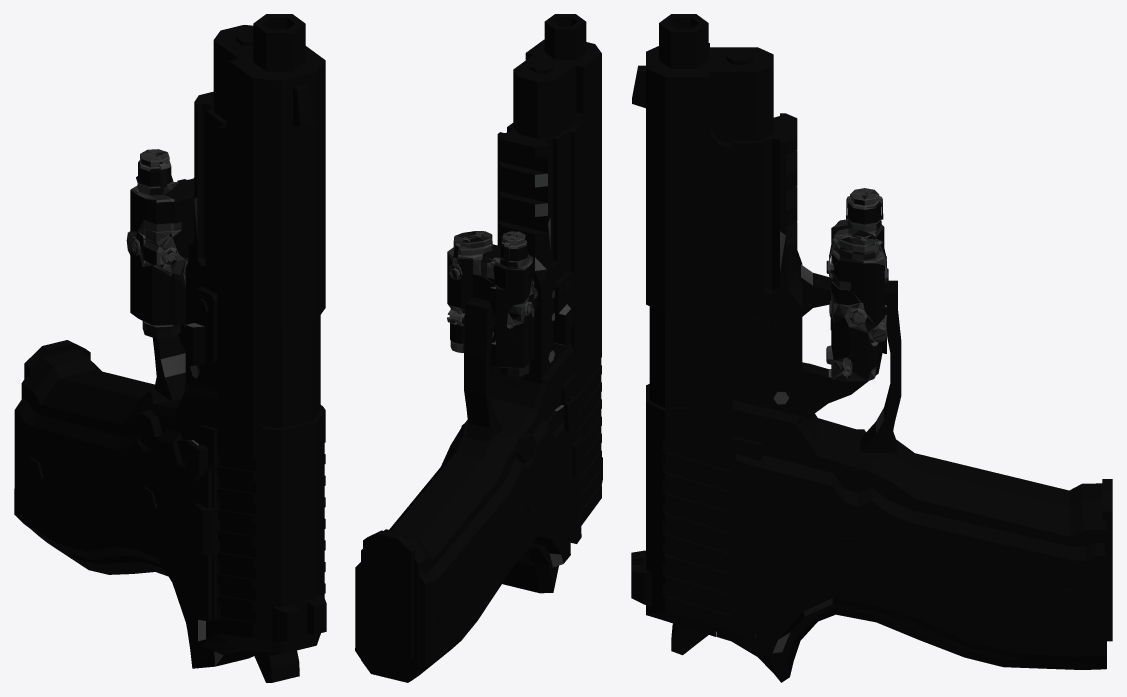
File: SIG_P226__Laser_Pistol.fbx
3 views of the same model, side by side, from view 1: azimuth 30°, elevation 25°; view 2: azimuth 150°, elevation 25°; view 3: azimuth 270°, elevation 25° (orthographic). The views are drawn at different scales.
Parts seen in each view (by area): view 1: asset_SIG_P226.001; view 2: asset_SIG_P226.001; view 3: asset_SIG_P226.001.
Part boxes in pixels (box(x1,y1,x2,y2)): asset_SIG_P226.001: box(14, 14, 326, 682); asset_SIG_P226.001: box(355, 14, 602, 682); asset_SIG_P226.001: box(631, 14, 1112, 682).
Bounding box in the file's own units: 0.0189 × 0.1212 × 0.0821.
